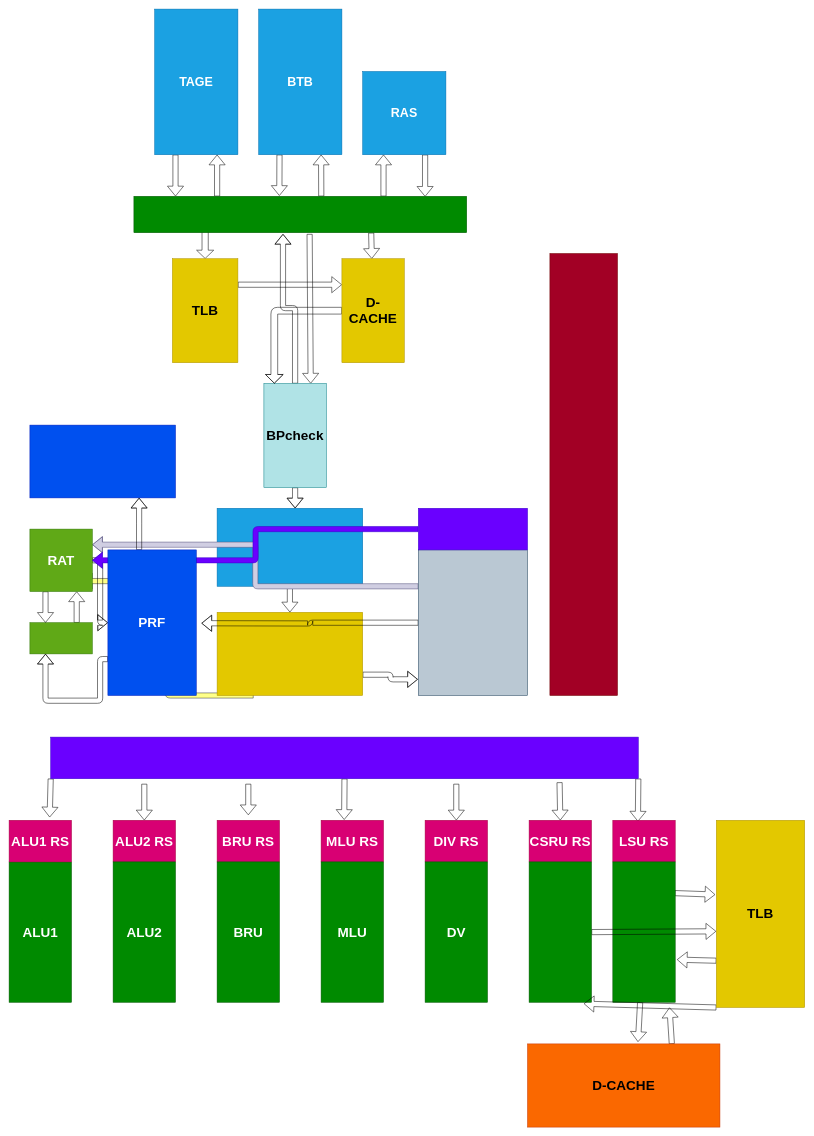
Some shapes in this 814 by 1136 pixel diagram are drawn without their labels. Each missing label, with the centre of its shape:
"aRAT" belongs at pixel 473 529.
"ARF" belongs at pixel 102 461.
"CSRU" belongs at pixel 560 931.
"CtrlBlock" belongs at pixel 583 474.
"Decode" belongs at pixel 290 654.
"disptchleve1" belongs at pixel 344 758.
"Fetch Target Queue" belongs at pixel 300 214.
"Freelist" belongs at pixel 60 638.
"Inst Queue" belongs at pixel 290 547.
"LSU" belongs at pixel 643 931.
"ROB" belongs at pixel 473 622.
